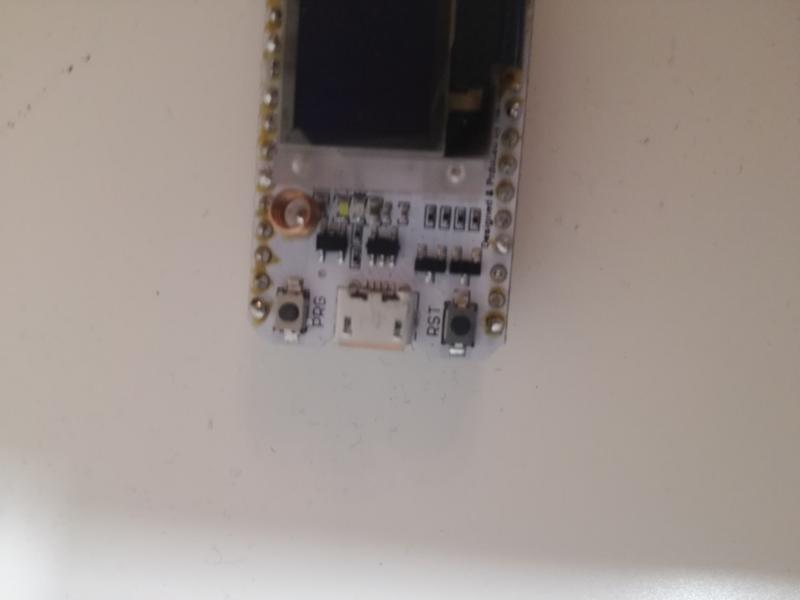Heltec_ESP32_Lora: (241, 1, 543, 364)
